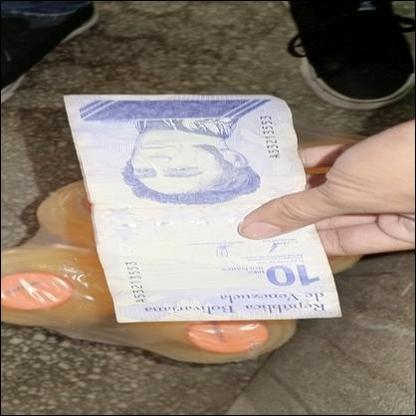ten-front-vef: (58, 93, 344, 322)
